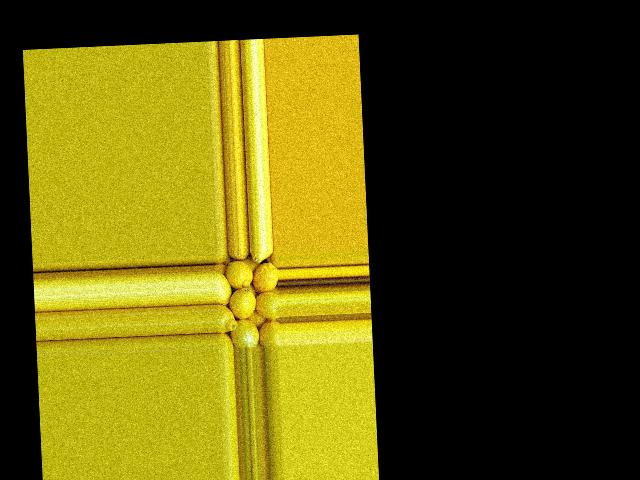lemon: (218, 333, 234, 350)
